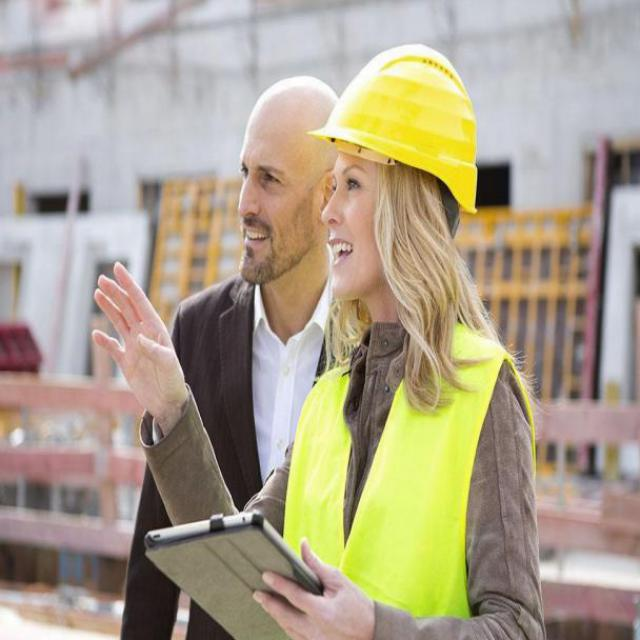helmet: (327, 30, 484, 314)
vest: (278, 329, 508, 639)
